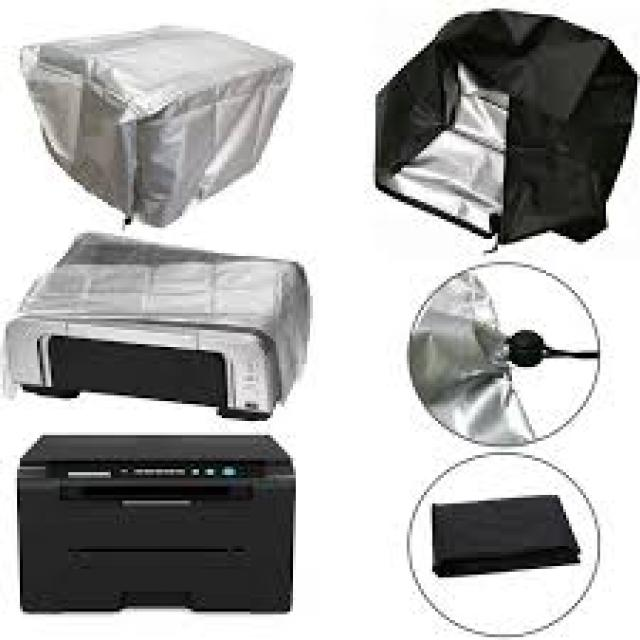printer: (14, 432, 296, 612)
